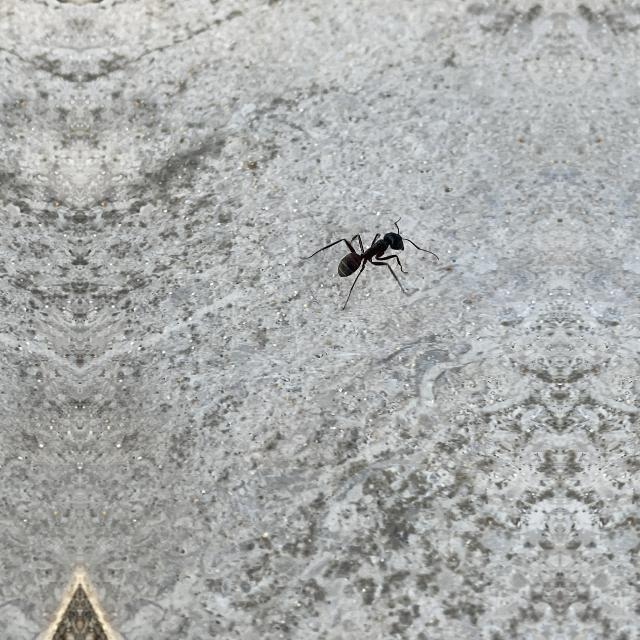Camponotus: (325, 212, 415, 298)
